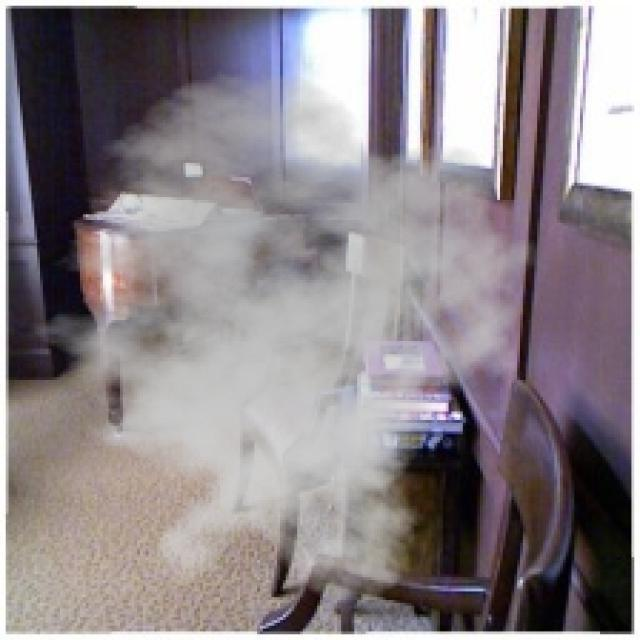Smoke: (9, 71, 552, 606)
